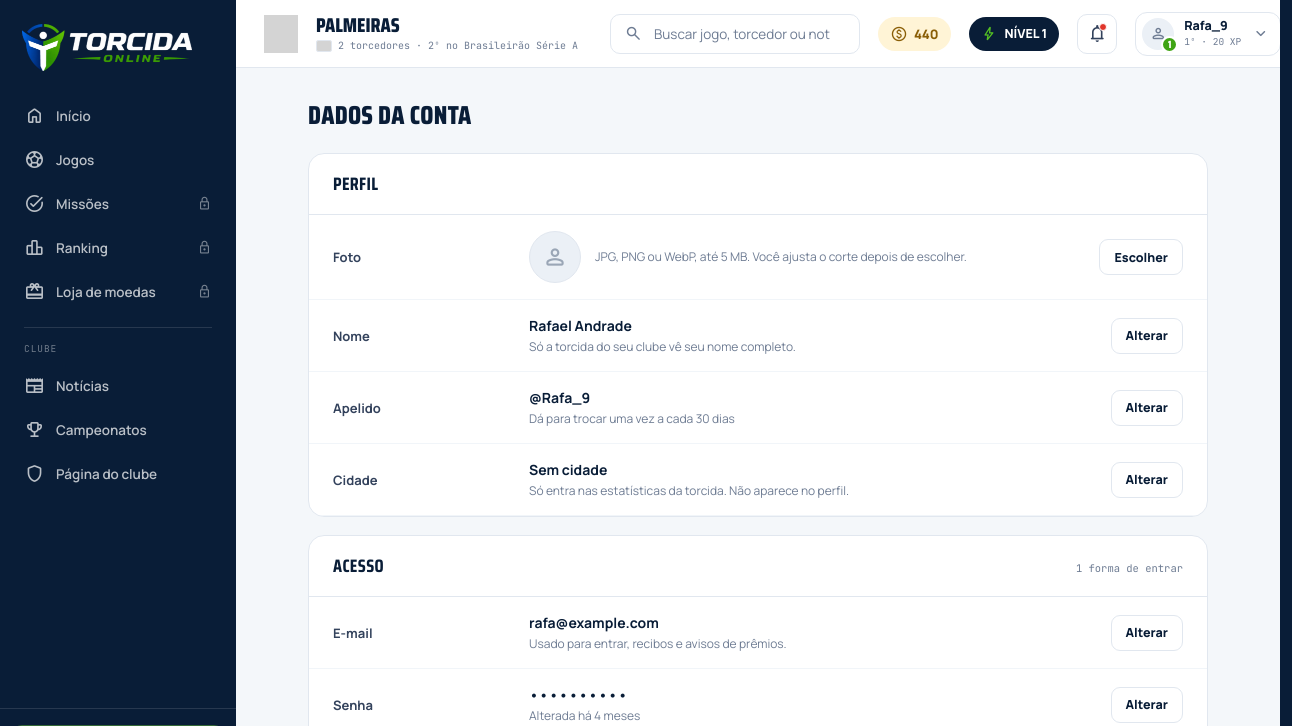
Scenario: Dados da conta (W21) › perfil › o apelido que outro torcedor deixou fica reservado por 30 dias
Click the button with aria-label "Alterar apelido".
click(1147, 408)  # box [1110, 390, 1183, 426]
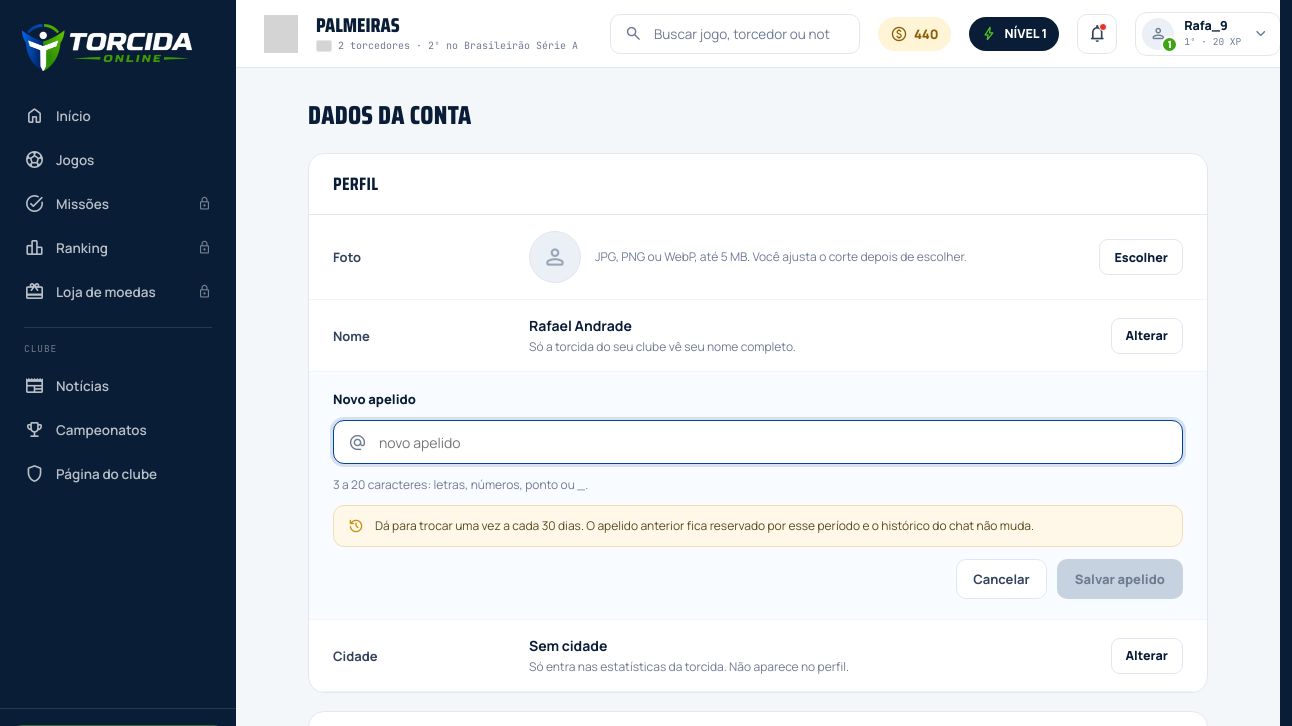
Type "verdao10" into the field labelled "novo apelido".
click(772, 442); type("verdao10")  # box [377, 432, 1168, 452]
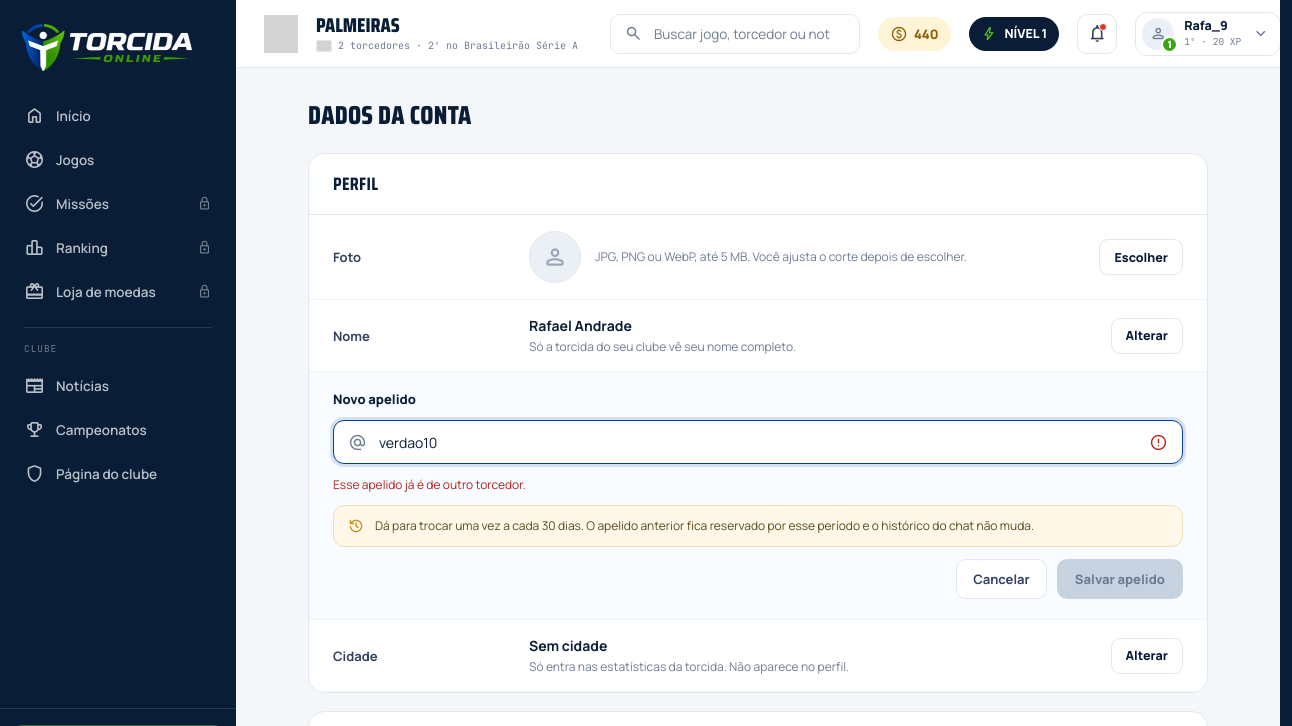
Expected: the text "Esse apelido já é de outro torcedor." is shown, [333, 476, 526, 493]
